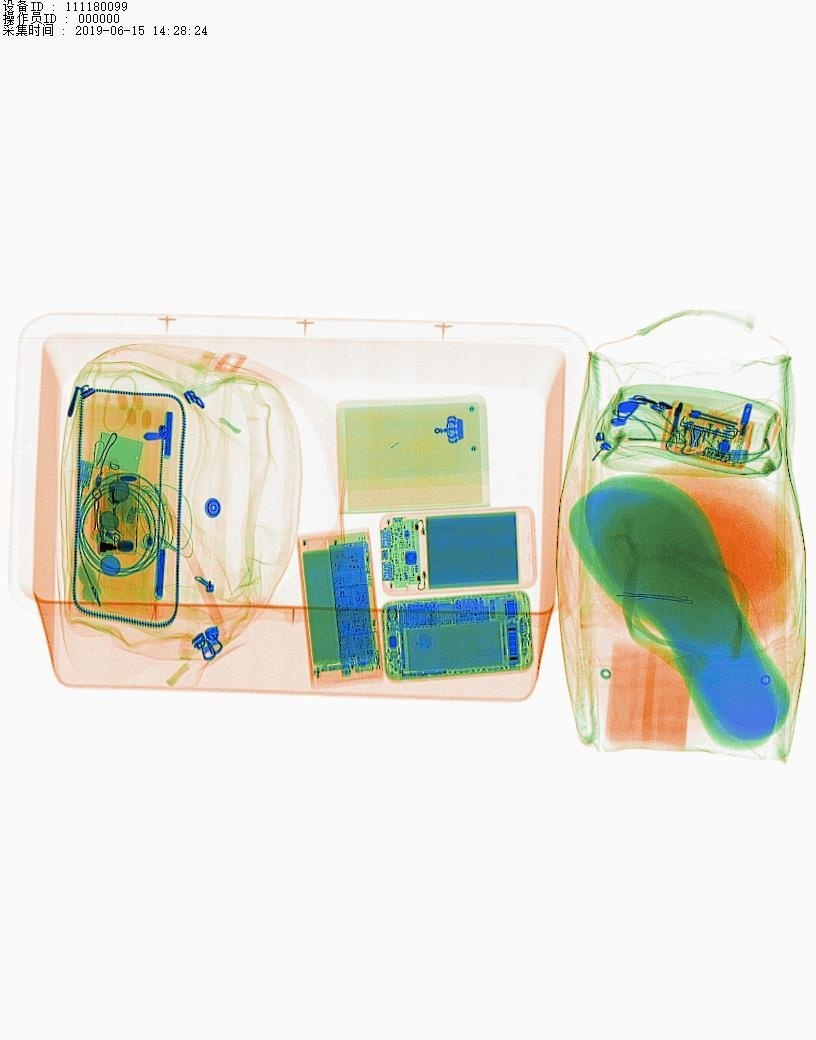NonmetallicFire: (92, 458, 130, 557)
